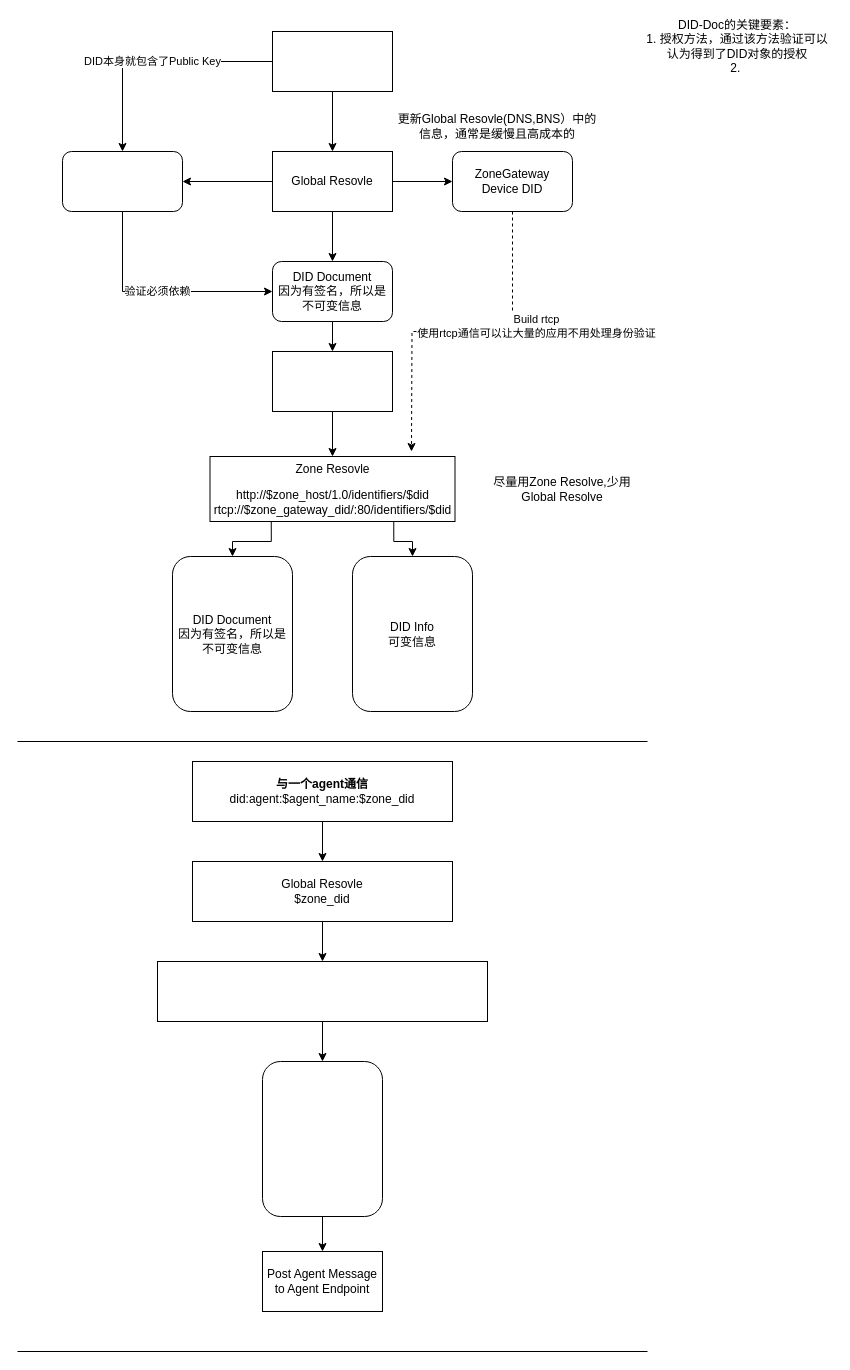
The diagram is 850 pixels wide and 1370 high, and some of its shapes have lost their labels. Here are the shapes that lost their labels. From the top down, the box of each, then its label:
(272, 30, 392, 92): DID
(62, 150, 182, 212): DID Public Key (用于验证 DID的签名)
(272, 350, 392, 412): Owner Zone (Zone DID)
(156, 960, 488, 1022): Zone Resovle http://$zone_host/1.0/identifiers/did:agent:$agent_name
(262, 1060, 382, 1216): Agent Document
